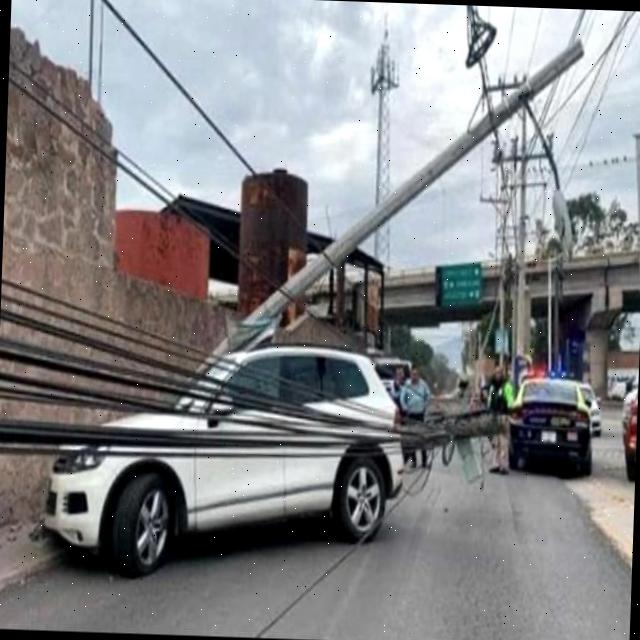Broken Pole: (184, 38, 585, 400)
